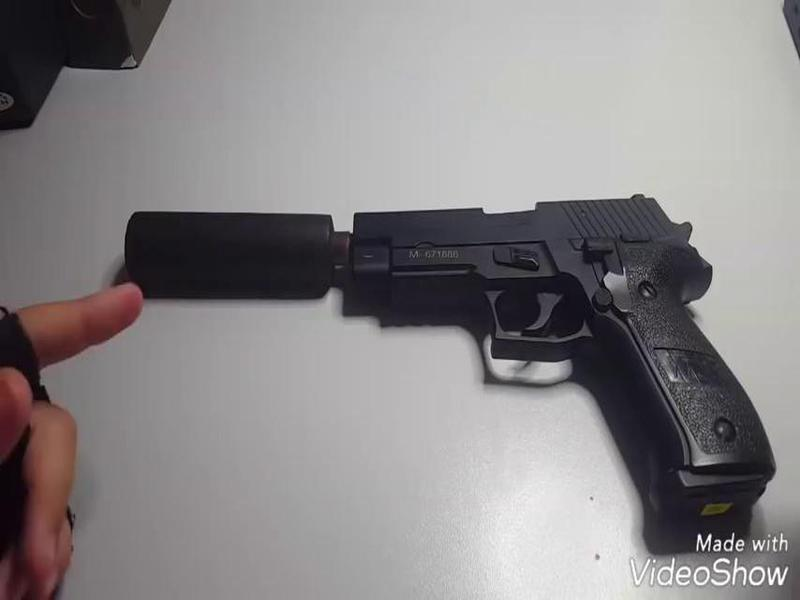Pistola: (115, 194, 783, 488)
